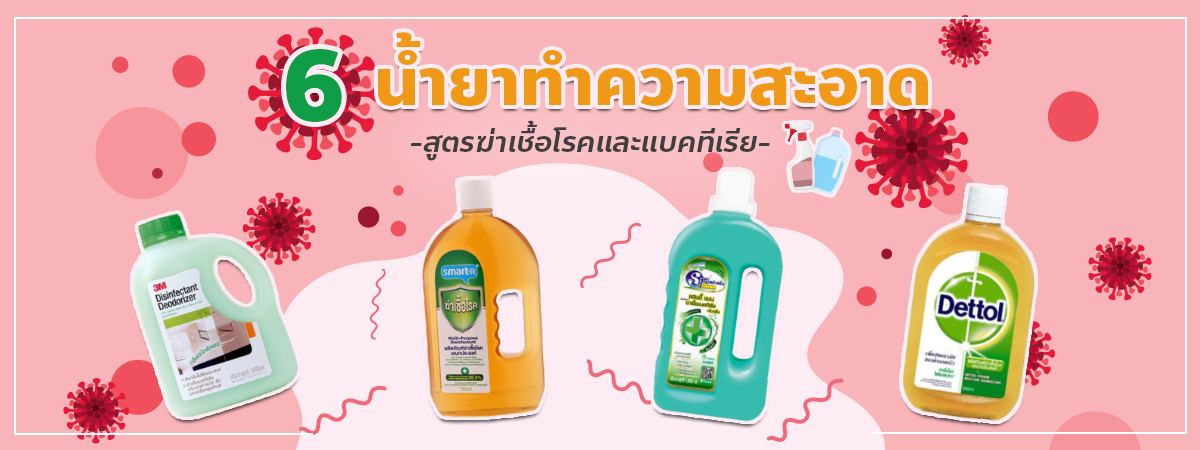Cleaning_solution: (123, 207, 306, 426), (894, 178, 1042, 429), (646, 161, 785, 428), (417, 172, 550, 430)
